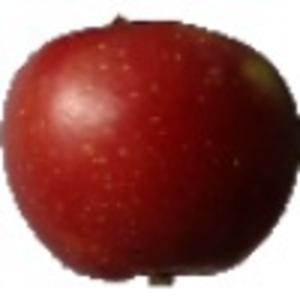maçã braeburn: (1, 13, 300, 286)
